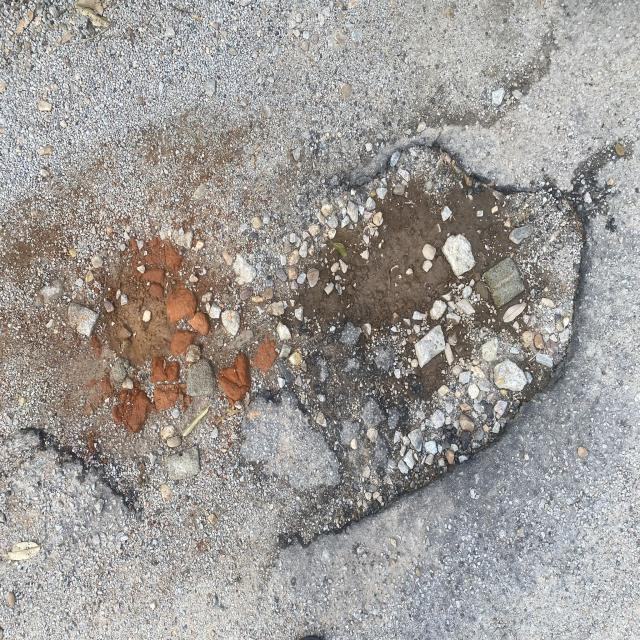pothole: (39, 120, 640, 558)
